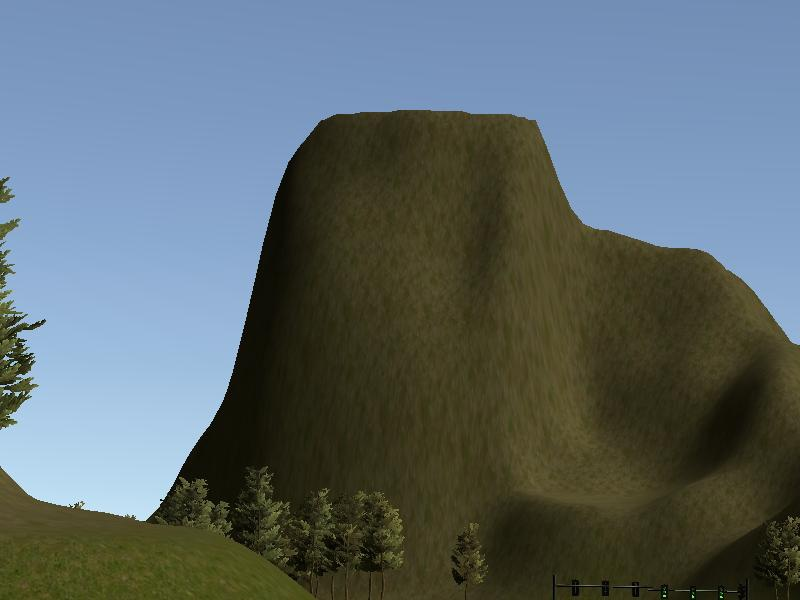Green: (659, 580, 669, 598), (716, 585, 727, 600), (687, 584, 697, 598)
